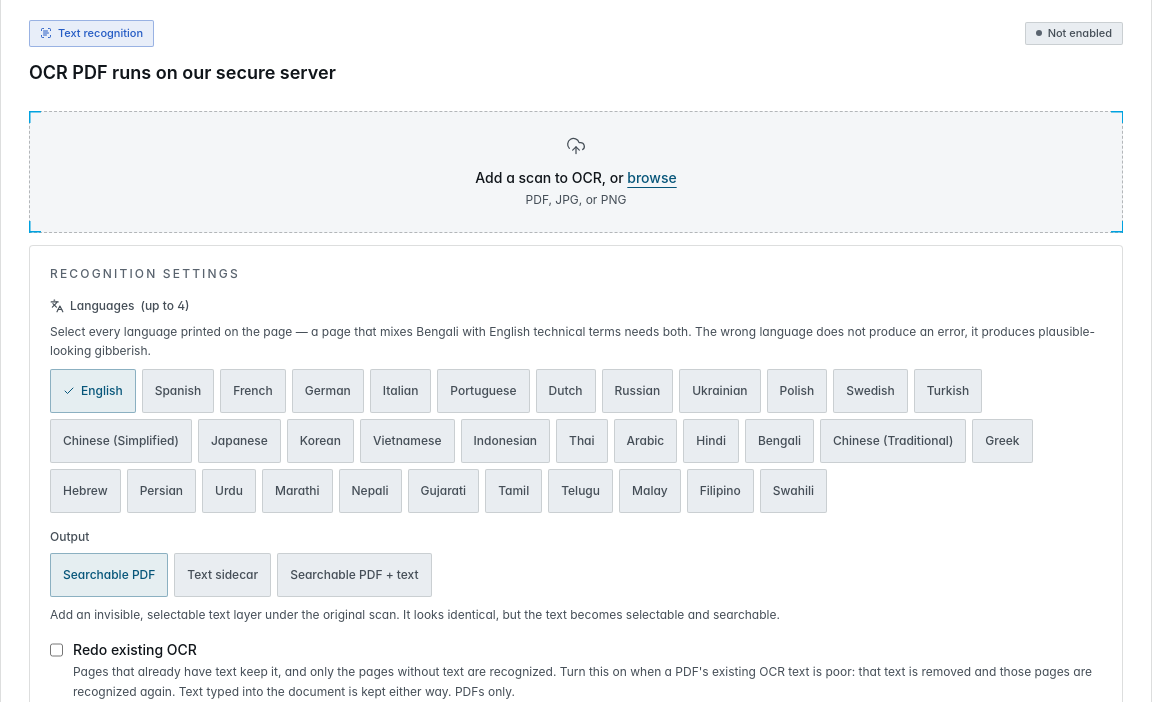
Test case: OcrWorkerPanel › reflects the chosen languages and output in the request summary
The width and height of the screenshot is (1152, 702).
Click the button "Spanish": (178, 390) [142,368,214,412]
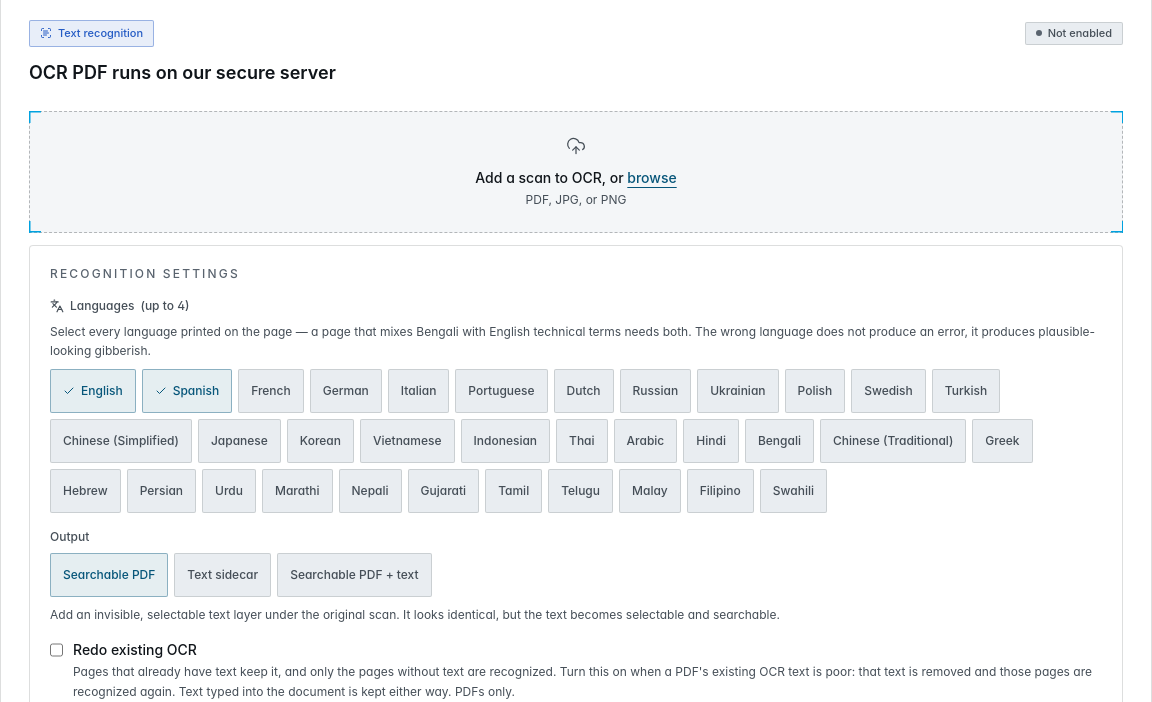
Click the radio button labelled "Text sidecar": (223, 574) [174,552,271,596]
(page scrolled)
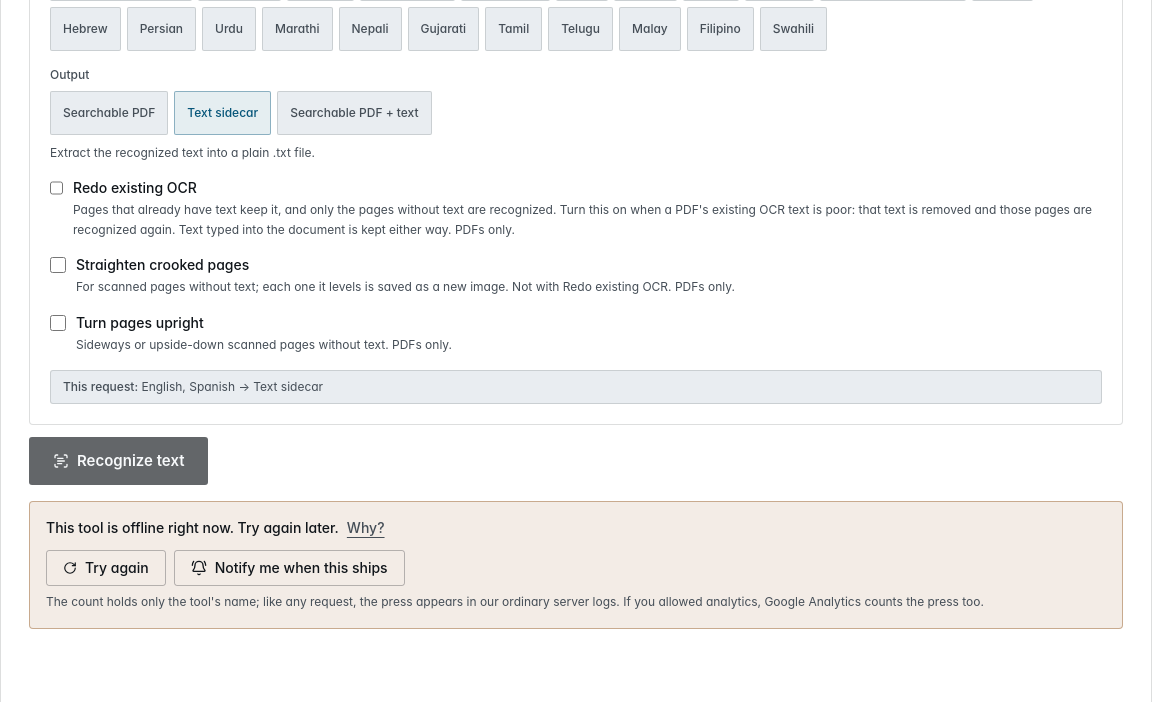
Expected: the text "This request: English, Spanish → Text sidecar" is shown, [50,370,1102,404]
